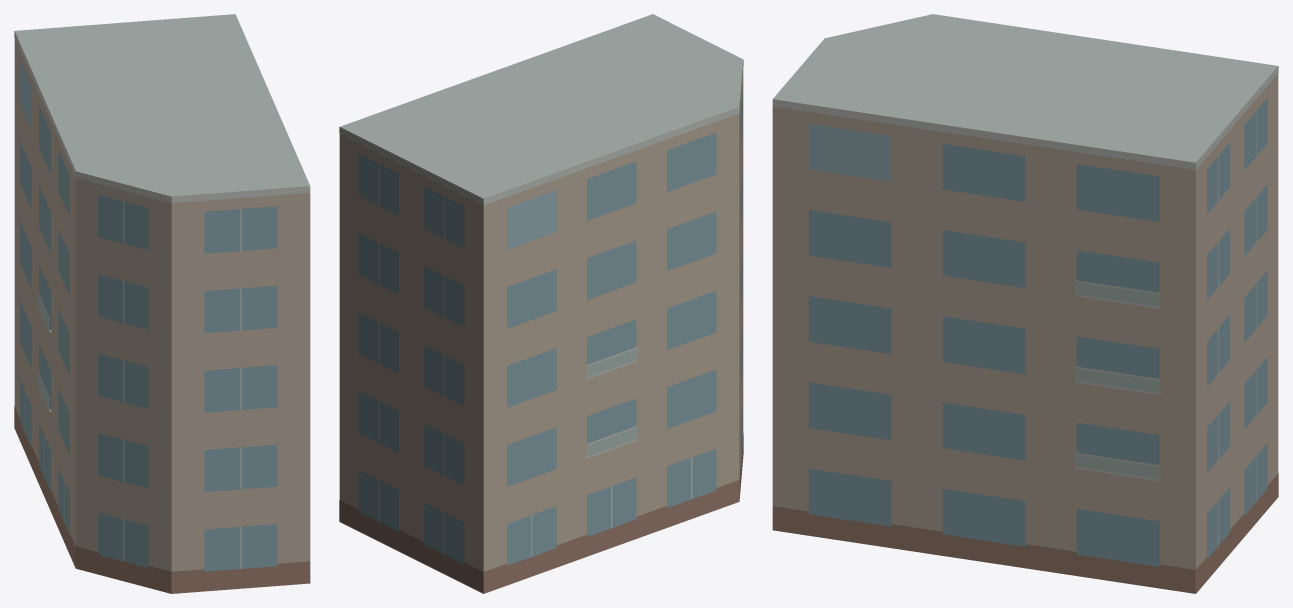
File: survey-upis-32889793.glb
3 renders of one model, left to right at view 1: azimuth 30°, elevation 25°; view 2: azimuth 150°, elevation 25°; view 3: azimuth 270°, elevation 25°, orthographic. The views are drawn at different scales.
Parts seen in each view (by area): view 1: survey-upis-32889793.tmp; view 2: survey-upis-32889793.tmp; view 3: survey-upis-32889793.tmp.
Boxes of the visible parts, x1,y1,x2,y2 form: survey-upis-32889793.tmp: (14,14,310,593); survey-upis-32889793.tmp: (339,14,743,593); survey-upis-32889793.tmp: (772,14,1278,593).
Size of the model in its own units: 10.78 by 14.55 by 15.48.
